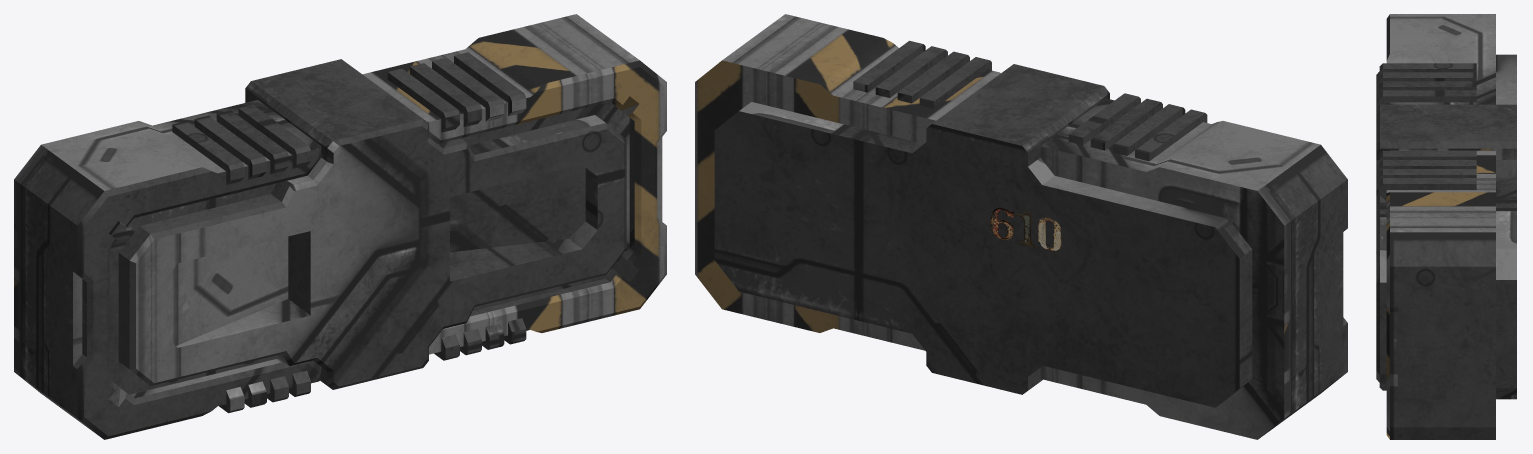
File: Modelo Puzzle 1.glb
3 renders of one model, left to right at view 1: azimuth 30°, elevation 25°; view 2: azimuth 150°, elevation 25°; view 3: azimuth 270°, elevation 25°, orthographic. The views are drawn at different scales.
Parts seen in each view (by area): view 1: GT_SG_Rectangular Greebles_8; view 2: GT_SG_Rectangular Greebles_8, 610 ok; view 3: GT_SG_Rectangular Greebles_8.
Boxes of the visible parts, bbox=[...] form: GT_SG_Rectangular Greebles_8: bbox=[14, 14, 666, 439]; GT_SG_Rectangular Greebles_8: bbox=[695, 14, 1347, 439]; 610 ok: bbox=[990, 207, 1061, 251]; GT_SG_Rectangular Greebles_8: bbox=[1376, 14, 1516, 439].
Size of the model in its own units: 1.4 by 0.5649 by 0.3509.
Materials: 2 (2 with a texture image).
